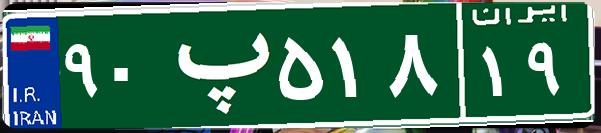0: (110, 28, 158, 105)
1: (330, 28, 385, 110), (475, 38, 525, 113)
5: (273, 28, 330, 110)
8: (385, 28, 445, 110)
9: (57, 26, 110, 107), (525, 38, 570, 115)
پ: (158, 15, 273, 115)
